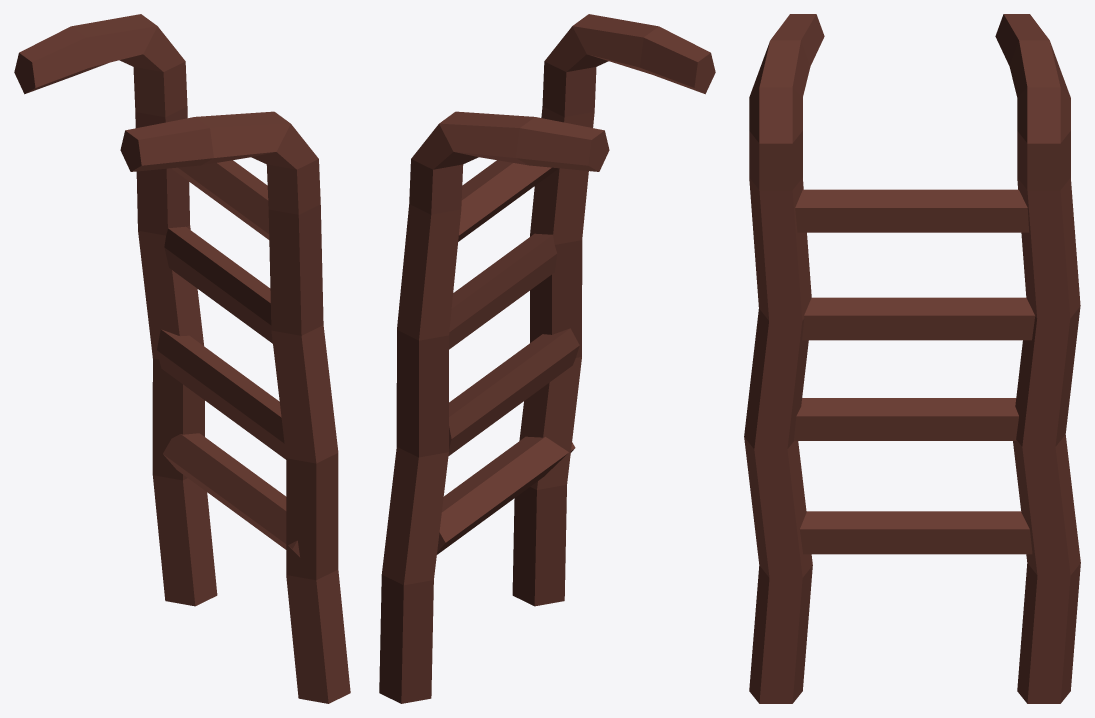
The model's file is StiltLadder_Small.fbx.
3 renders of one model, left to right at view 1: azimuth 30°, elevation 25°; view 2: azimuth 150°, elevation 25°; view 3: azimuth 270°, elevation 25°, orthographic.
Parts seen in each view (by area): view 1: Ladder_1; view 2: Ladder_1; view 3: Ladder_1.
Boxes of the visible parts, x1,y1,x2,y2 form: Ladder_1: (14, 14, 350, 703); Ladder_1: (379, 14, 715, 703); Ladder_1: (744, 14, 1080, 703).
Size of the model in its own units: 31.19 by 89.42 by 45.64.
